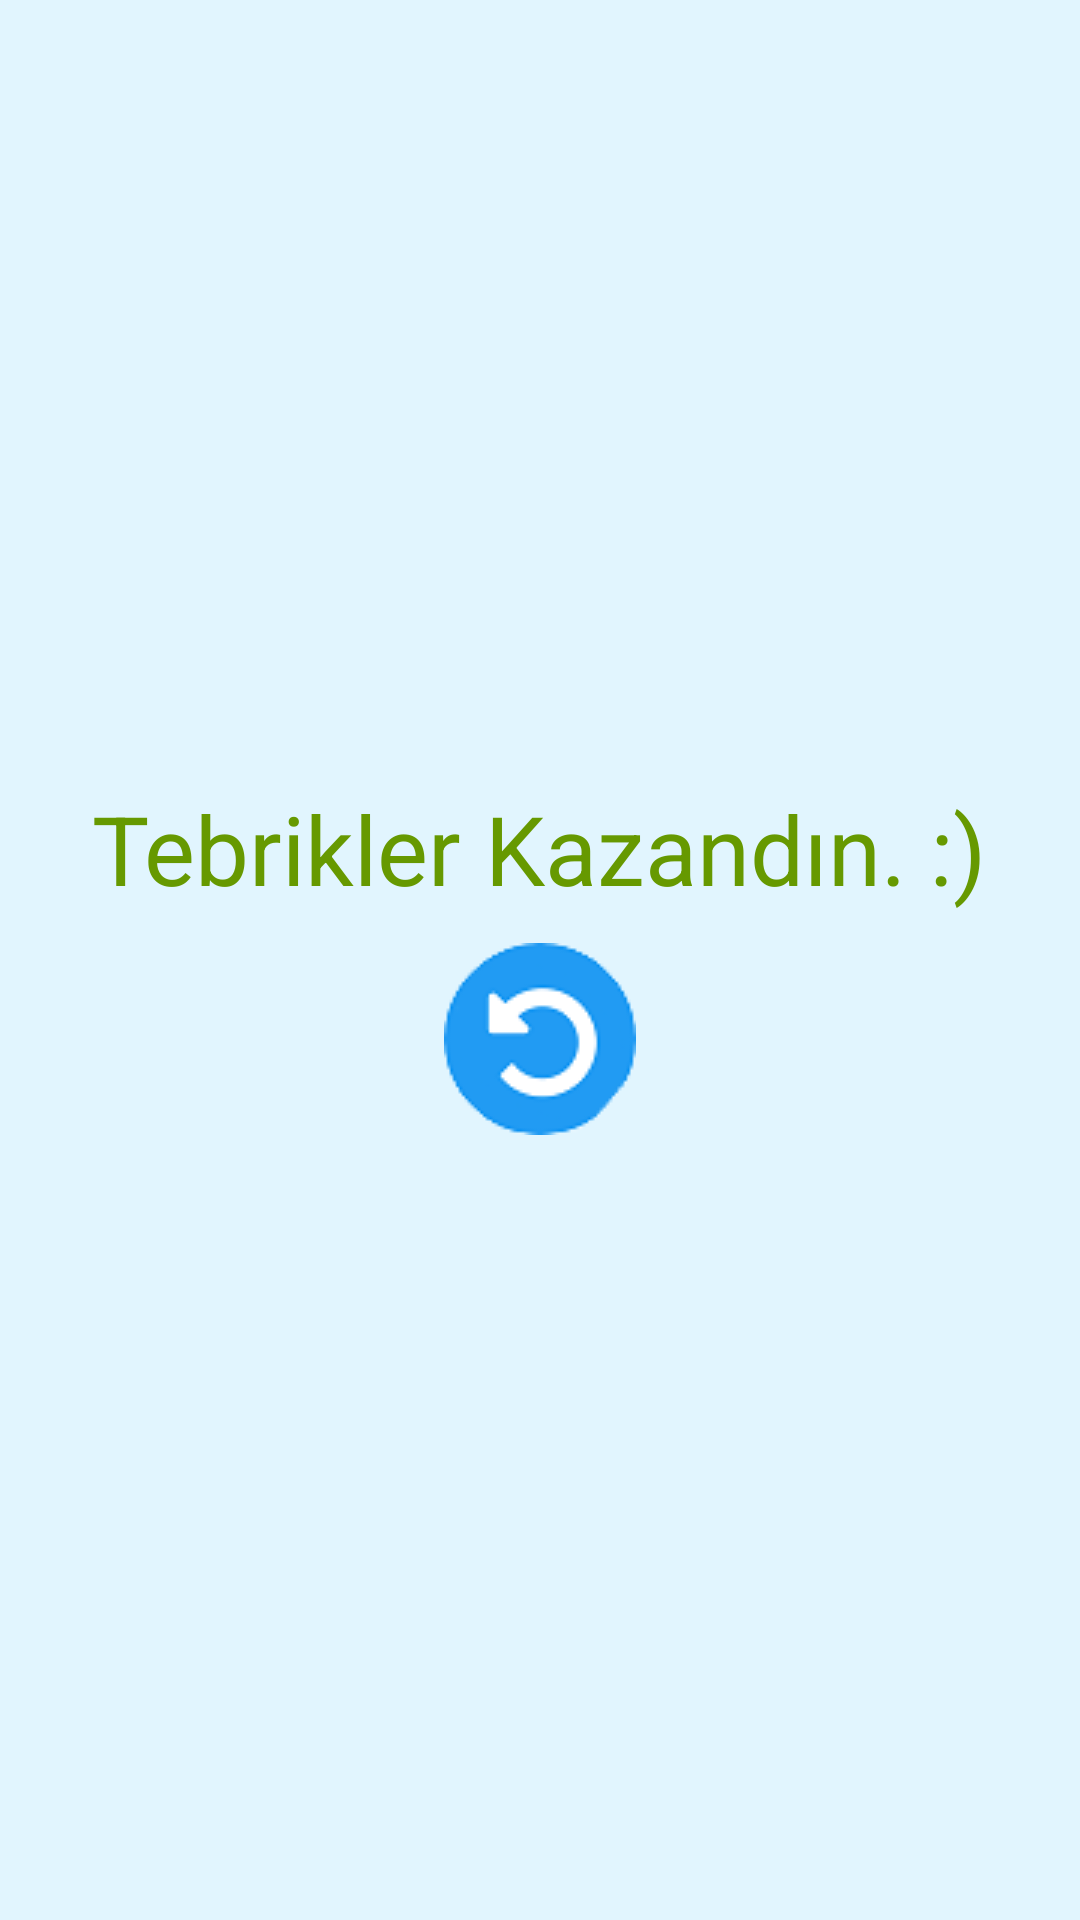

Screen size 1080 x 1920. Icon name, then its center in pixels as (x=x, y=y):
restart: (x=540, y=1039)
